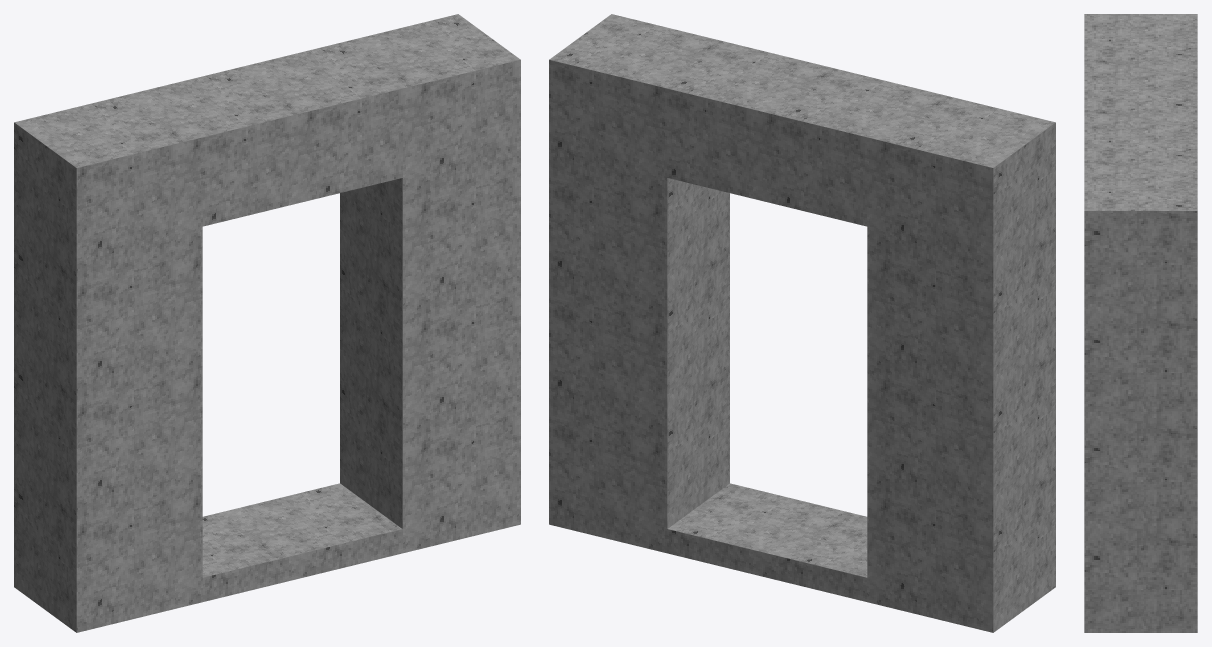
The model's file is DoorFrame.fbx.
3 renders of one model, left to right at view 1: azimuth 30°, elevation 25°; view 2: azimuth 150°, elevation 25°; view 3: azimuth 270°, elevation 25°, orthographic. The views are drawn at different scales.
Visible parts, largest first — view 1: Cube.001; view 2: Cube.001; view 3: Cube.001.
Part boxes in pixels (box(x1,y1,x2,y2)): Cube.001: box(14, 14, 520, 632); Cube.001: box(549, 14, 1055, 632); Cube.001: box(1084, 14, 1197, 632).
Bounding box in the file's own units: 200 × 200 × 48.73.
